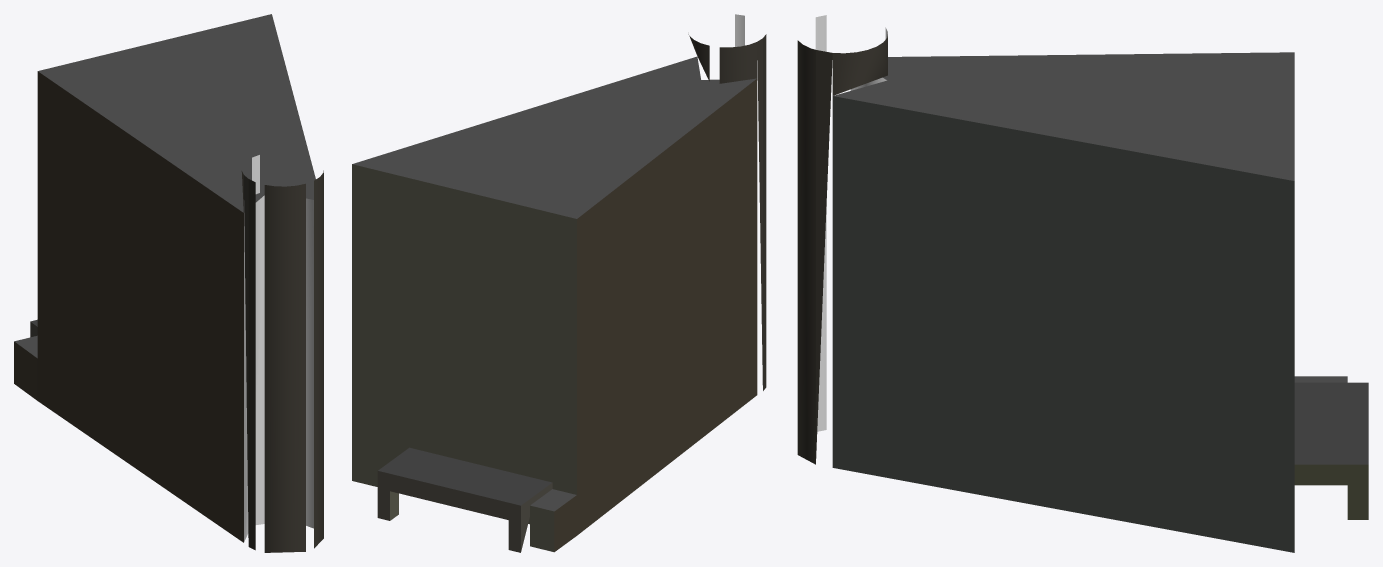
File: cornerstone-community-bank.glb
3 renders of one model, left to right at view 1: azimuth 30°, elevation 25°; view 2: azimuth 150°, elevation 25°; view 3: azimuth 270°, elevation 25°, orthographic. The views are drawn at different scales.
Parts seen in each view (by area): view 1: LOD0; view 2: LOD0; view 3: LOD0.
Part boxes in pixels (x1,y1,x2,y2): LOD0: [14, 14, 323, 552]; LOD0: [352, 14, 766, 552]; LOD0: [797, 15, 1368, 552].
Size of what is drawn, in the model's own units: 22.81 by 34.25 by 42.91.
2 materials, 2 textured.
